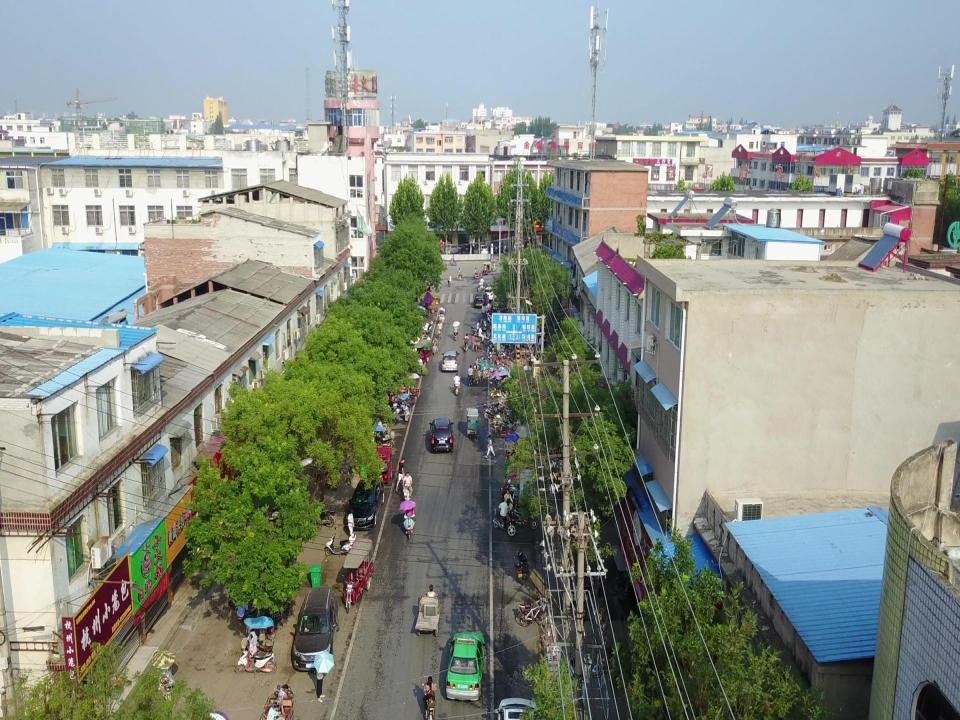car: (289, 587, 340, 671), (445, 631, 485, 701), (345, 477, 385, 530), (428, 418, 453, 452), (440, 350, 460, 372), (473, 291, 489, 308), (483, 287, 501, 301), (443, 242, 461, 255), (402, 483, 412, 502), (460, 243, 474, 255), (477, 244, 488, 255)
